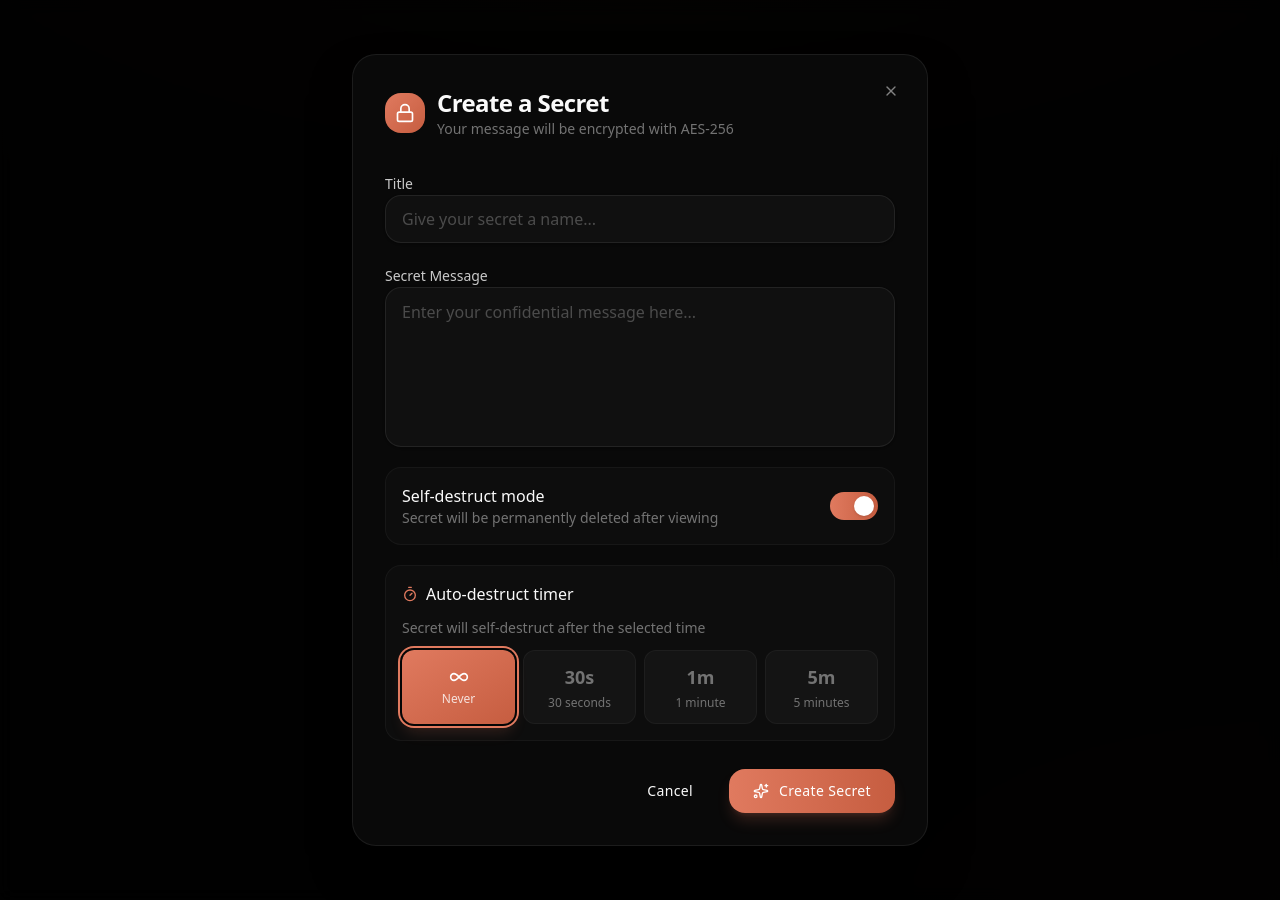
CreateSecretDialog › shows validation errors when submitting empty form
Click the button "Create Secret". click: click(812, 791)
box: [729,769,895,813]
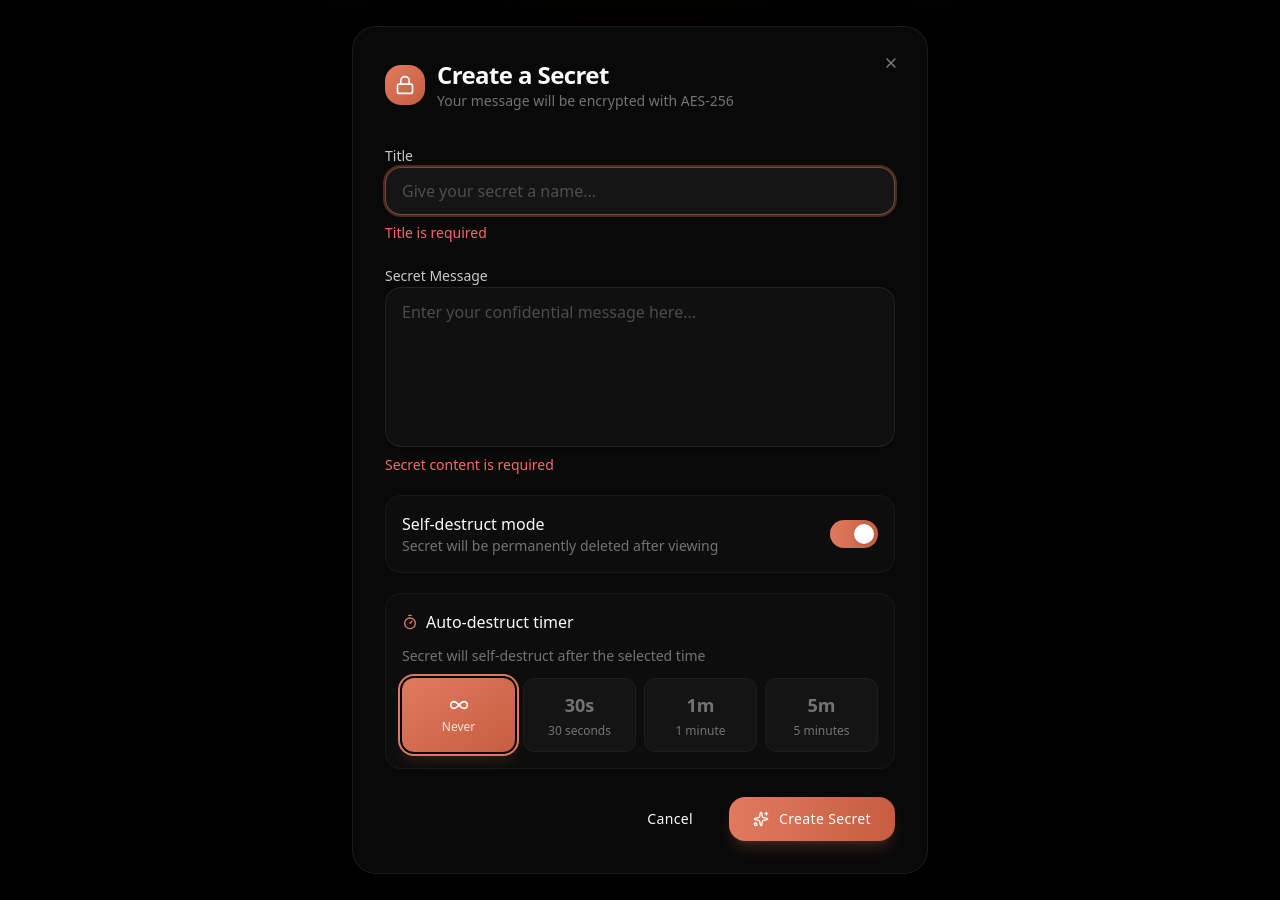
Expected: the text "Title is required" is shown, [385,223,487,242]
Expected: the text "Secret content is required" is shown, [385,455,554,474]
